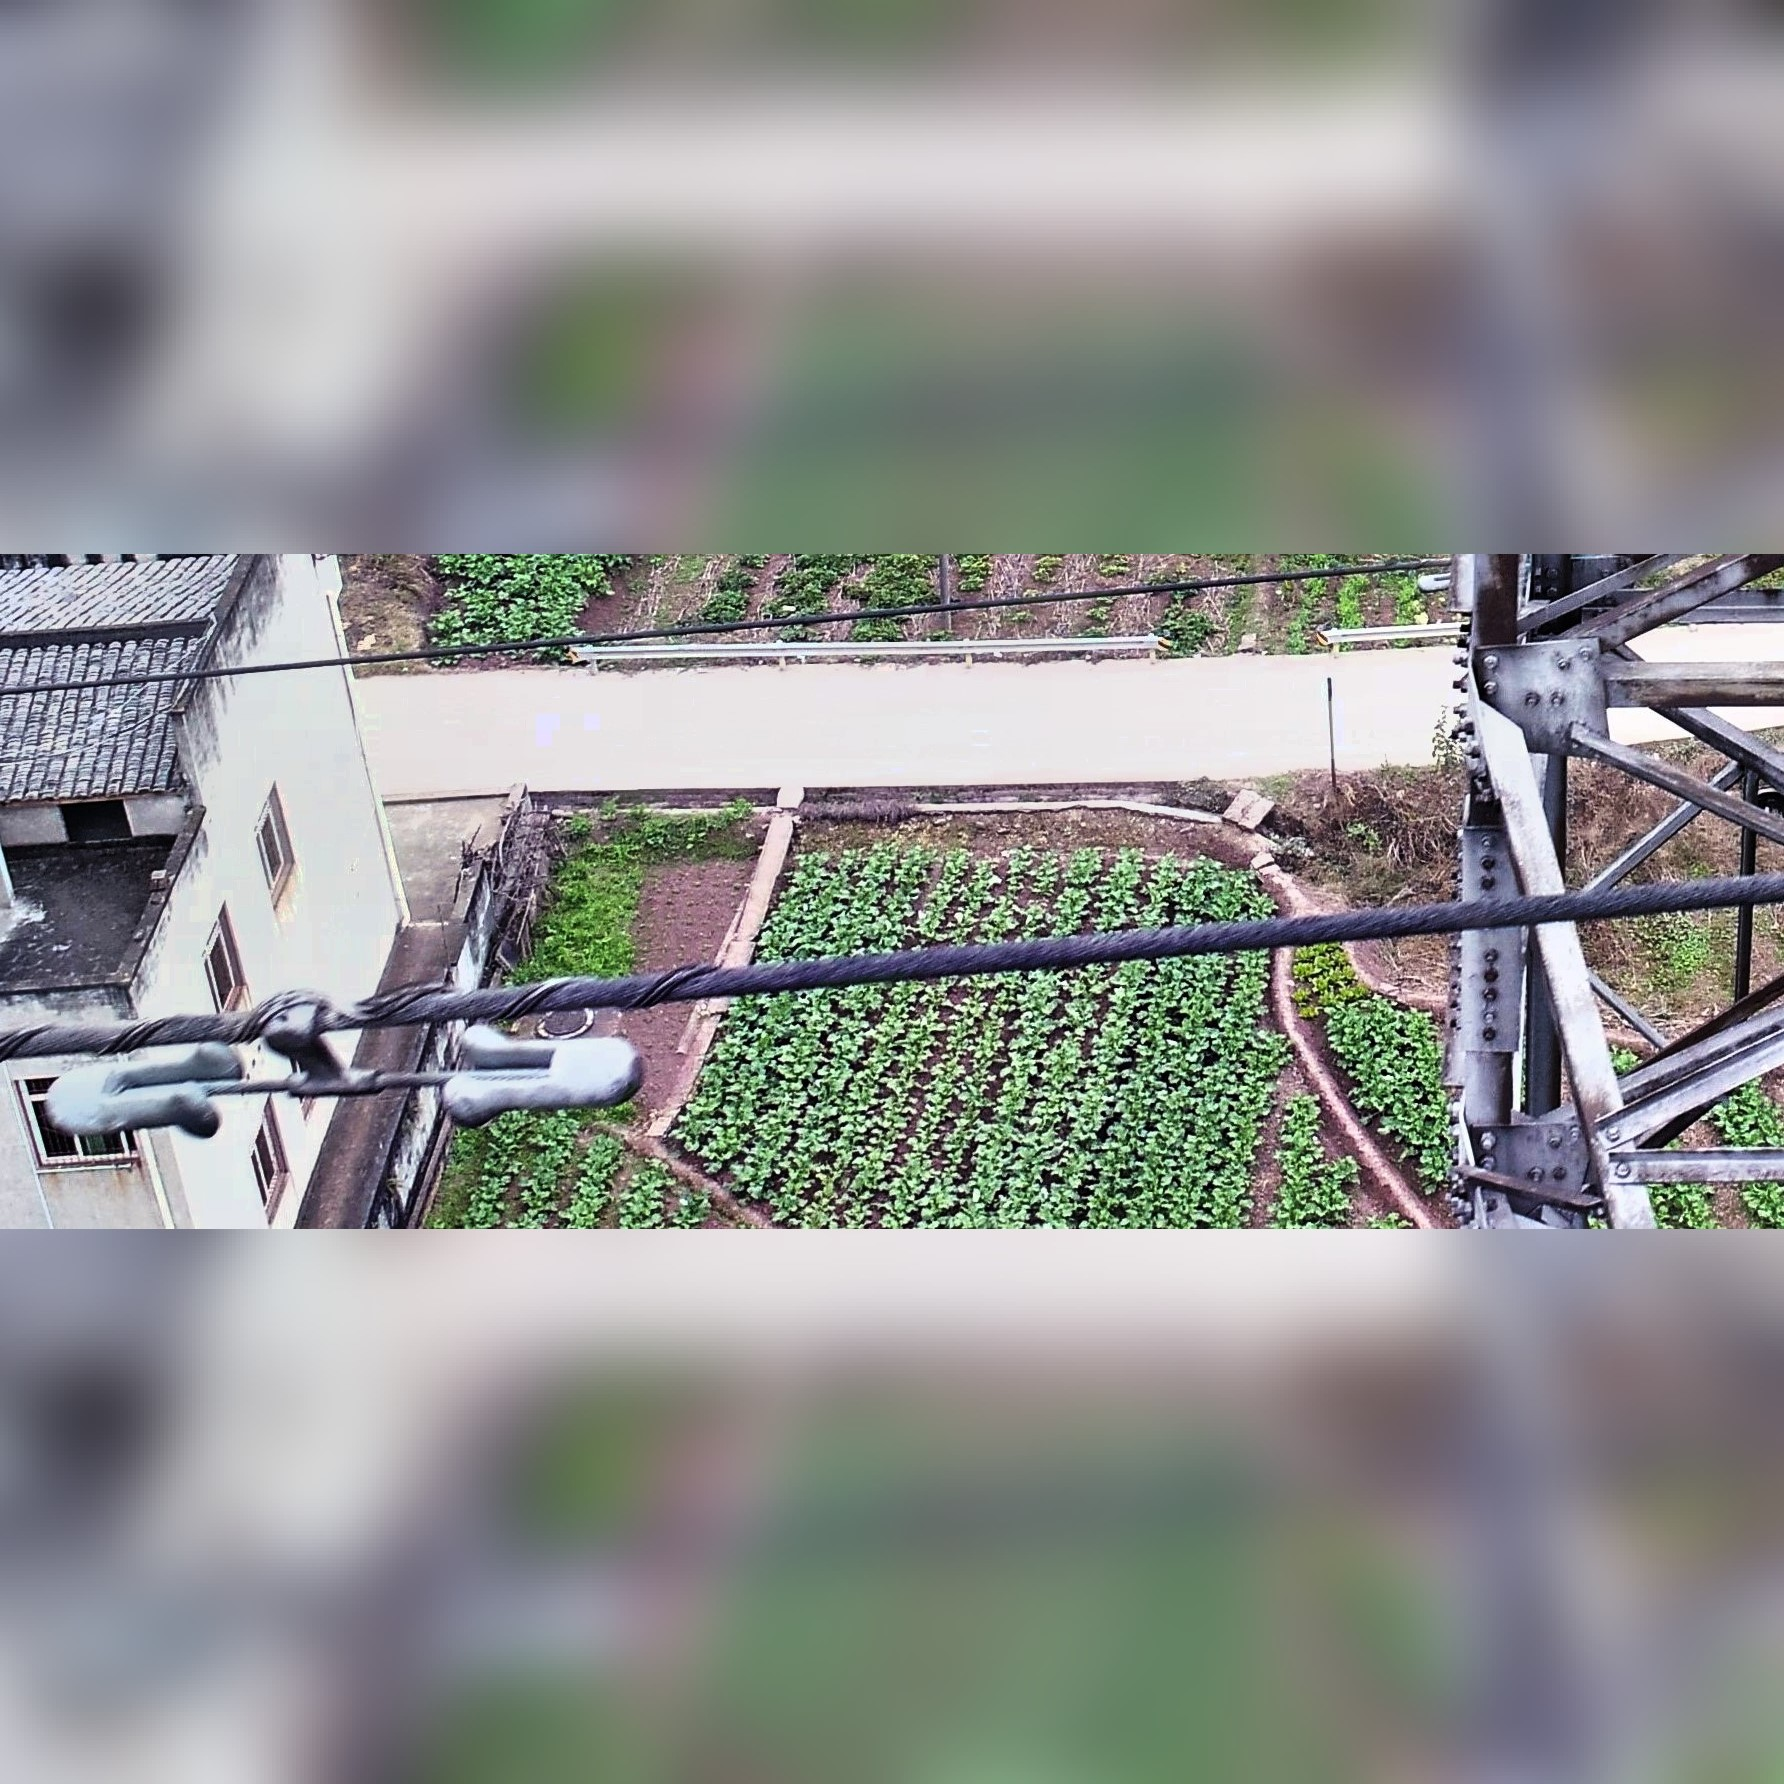Shockproof hammer: (20, 951, 680, 1157)
